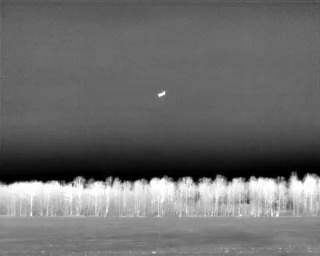DRONE: (155, 87, 169, 101)
